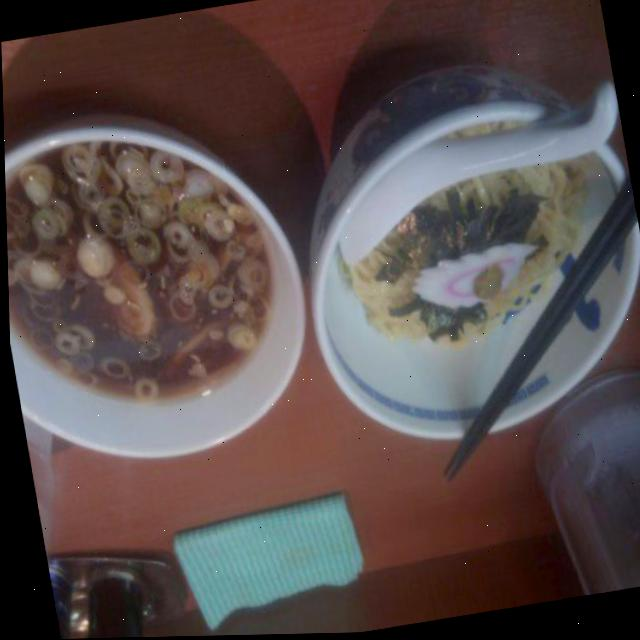面条主食: (1, 48, 640, 521)
